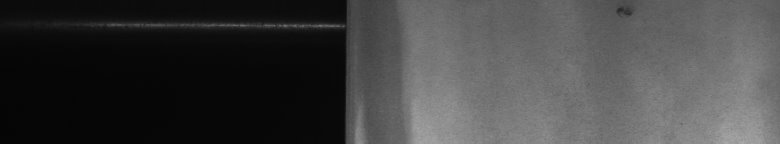fi: (616, 4, 635, 24)
